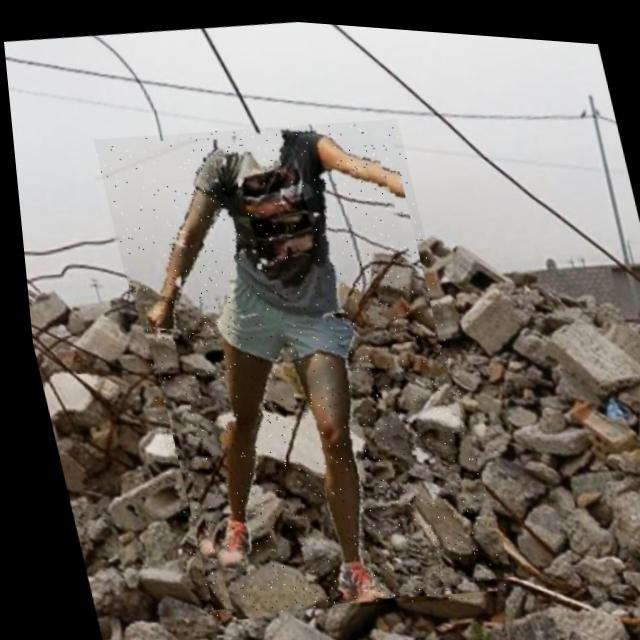Person in Rubble: (88, 95, 501, 633)
